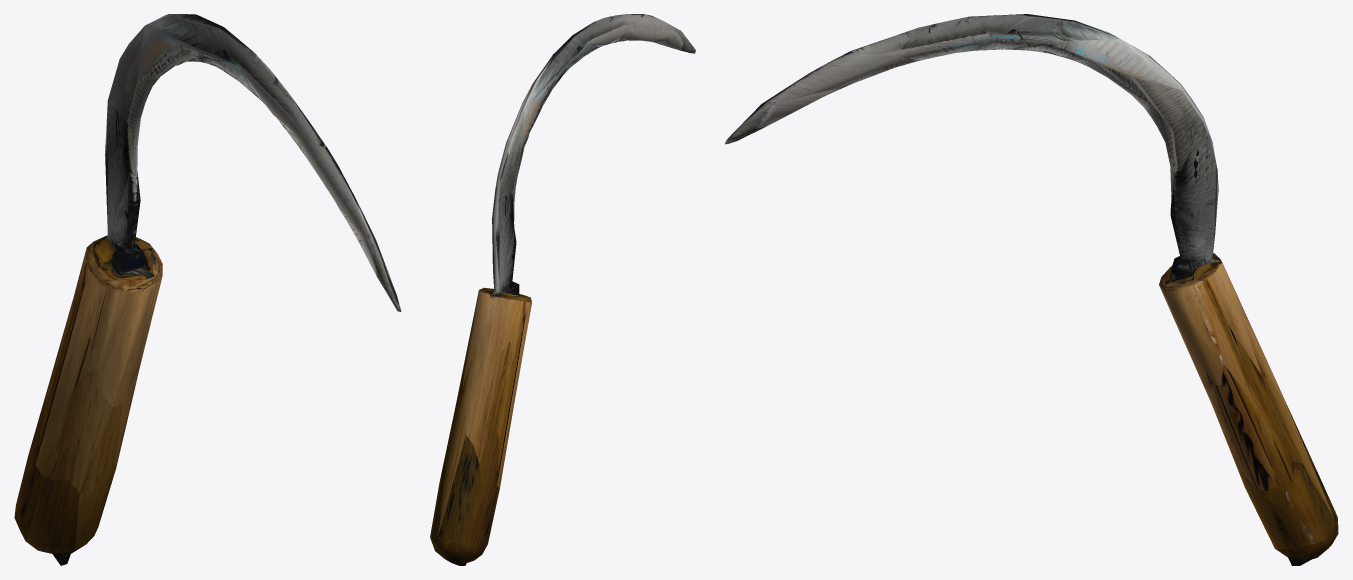
File: sickleffixed.fbx
3 renders of one model, left to right at view 1: azimuth 30°, elevation 25°; view 2: azimuth 150°, elevation 25°; view 3: azimuth 270°, elevation 25°, orthographic. The views are drawn at different scales.
Parts seen in each view (by area): view 1: meshes[0]; view 2: meshes[0]; view 3: meshes[0].
Part boxes in pixels (bbox=[...]): meshes[0]: bbox=[14, 14, 401, 565]; meshes[0]: bbox=[430, 14, 695, 565]; meshes[0]: bbox=[725, 14, 1338, 565].
Bounding box in the file's own units: 6.37 × 52.02 × 52.43.
1 material, 1 textured.
